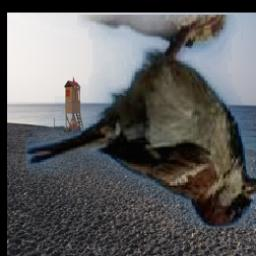Sparrow: (25, 15, 256, 228)
